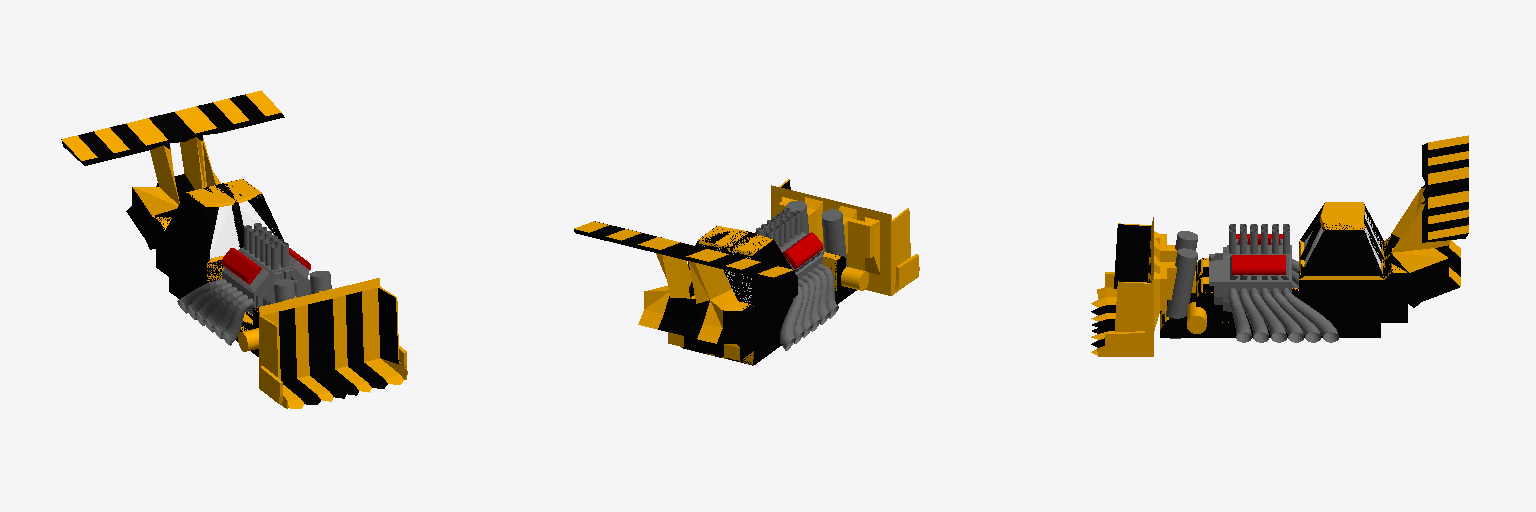
The model's file is super_dozer_body.obj.
The picture shows the model from 3 angles: view 1: azimuth 30°, elevation 25°; view 2: azimuth 150°, elevation 25°; view 3: azimuth 270°, elevation 25°; orthographic projection.
Parts seen in each view (by area): view 1: carroceria; view 2: carroceria; view 3: carroceria.
Boxes of the visible parts, x1=… form: carroceria: x1=61, y1=90, x2=407, y2=408; carroceria: x1=574, y1=179, x2=919, y2=365; carroceria: x1=1091, y1=135, x2=1468, y2=356.
Size of the model in its own units: 7.18 by 4.93 by 11.75.